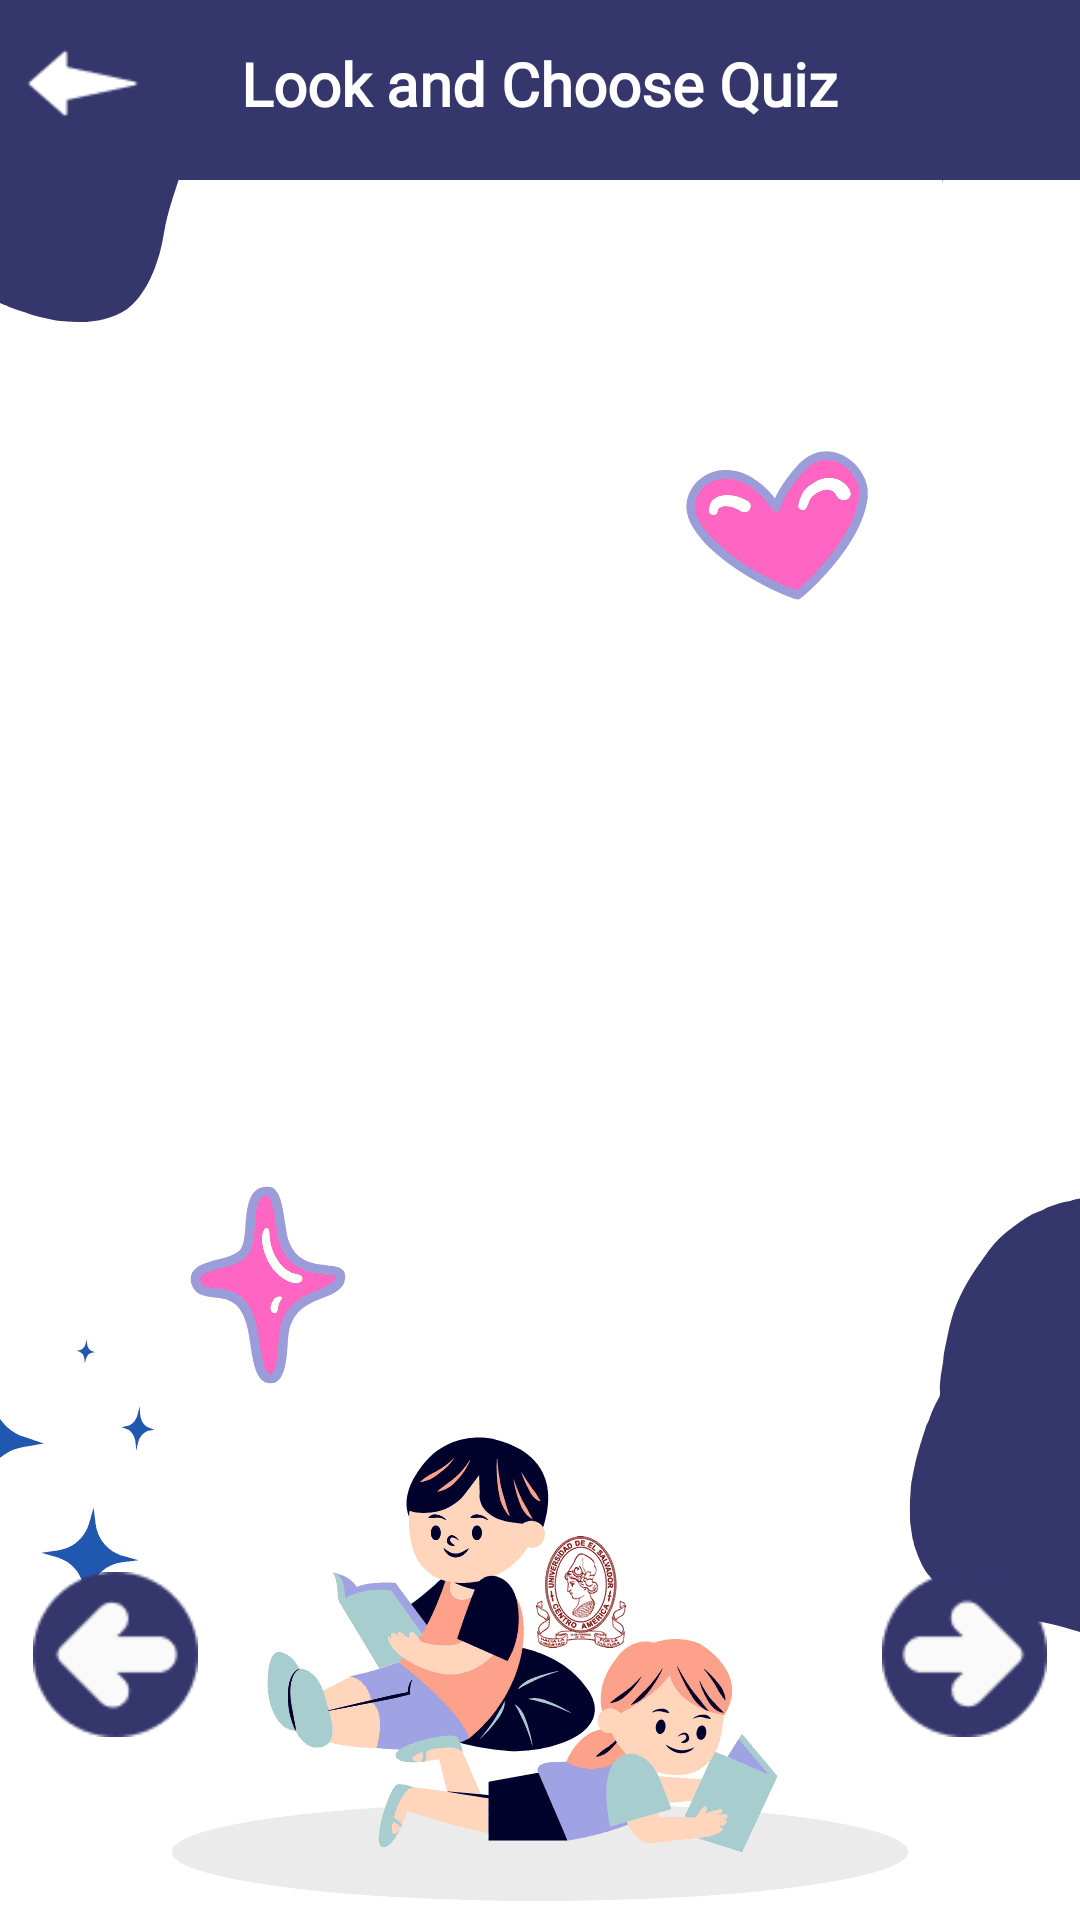

Point at icon controls on the screen. Image size 1080*1920, points as (x=x, y=y).
details left: (x=115, y=1654)
details right: (x=964, y=1654)
left back: (x=83, y=83)
